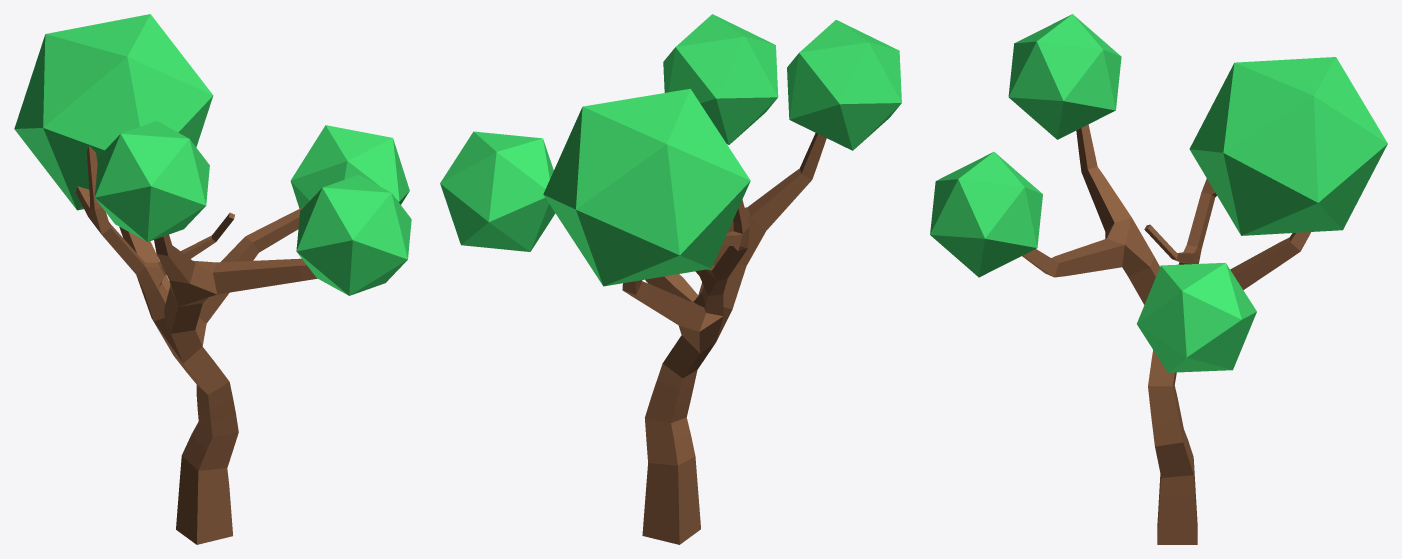
File: tree03.fbx
3 views of the same model, side by side, from view 1: azimuth 30°, elevation 25°; view 2: azimuth 150°, elevation 25°; view 3: azimuth 270°, elevation 25° (orthographic). The views are drawn at different scales.
Visible parts, largest first — view 1: Icosphere.008, Cube.002; view 2: Icosphere.008, Cube.002; view 3: Icosphere.008, Cube.002.
Part boxes in pixels (x1,y1,x2,y2): Icosphere.008: (14,14,411,295); Cube.002: (76,146,317,544); Icosphere.008: (440,14,901,286); Cube.002: (622,133,826,544); Icosphere.008: (930,14,1387,372); Cube.002: (1022,124,1310,544).
Bounding box in the file's own units: 257 × 307 × 279.
